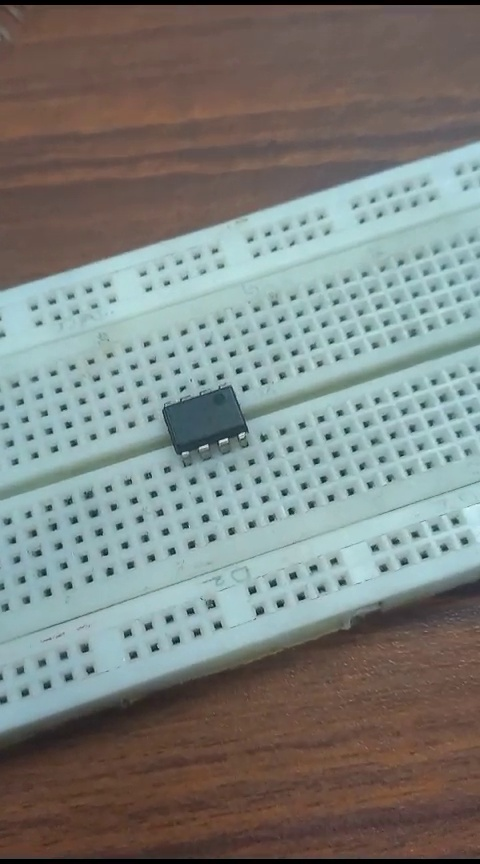IC: (153, 380, 262, 469)
